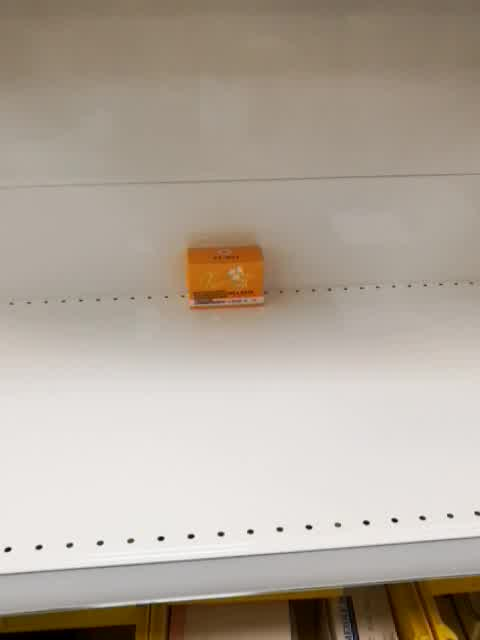jasminetea: (185, 245, 267, 310)
